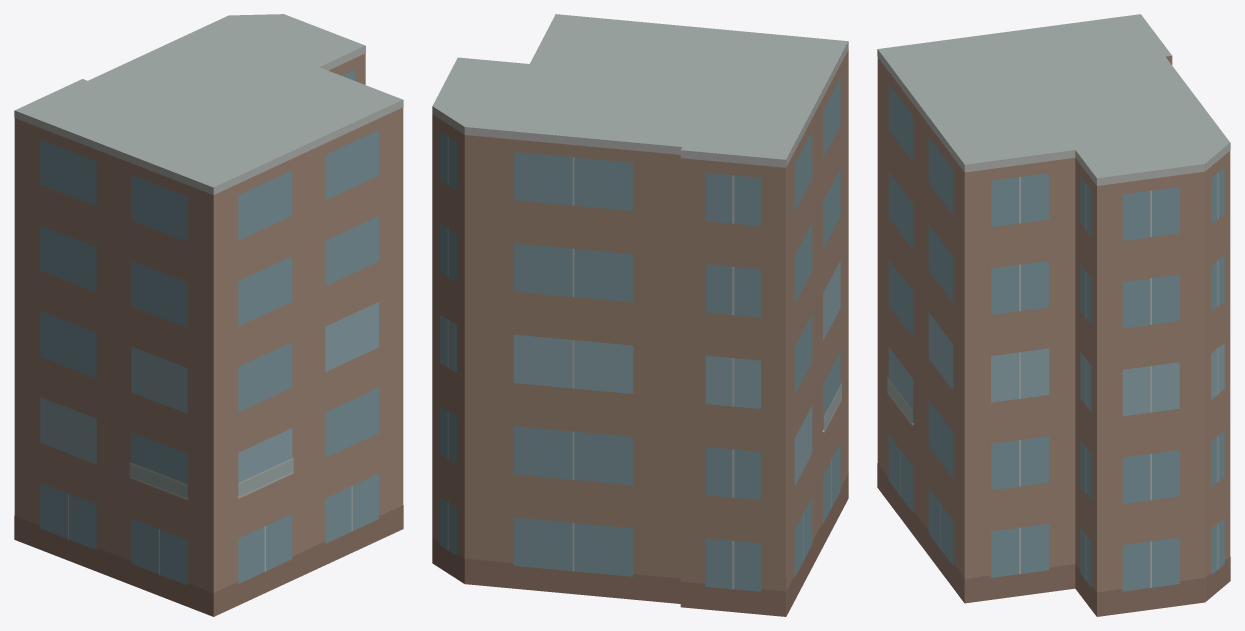
Rendered from survey-upis-32605467.glb.
3 renders of one model, left to right at view 1: azimuth 30°, elevation 25°; view 2: azimuth 150°, elevation 25°; view 3: azimuth 270°, elevation 25°, orthographic. The views are drawn at different scales.
Parts seen in each view (by area): view 1: survey-upis-32605467.tmp; view 2: survey-upis-32605467.tmp; view 3: survey-upis-32605467.tmp.
Boxes of the visible parts, x1,y1,x2,y2 form: survey-upis-32605467.tmp: [14, 14, 403, 616]; survey-upis-32605467.tmp: [432, 14, 848, 616]; survey-upis-32605467.tmp: [877, 14, 1230, 616].
Bounding box in the file's own units: 11.27 × 14 × 10.22.
